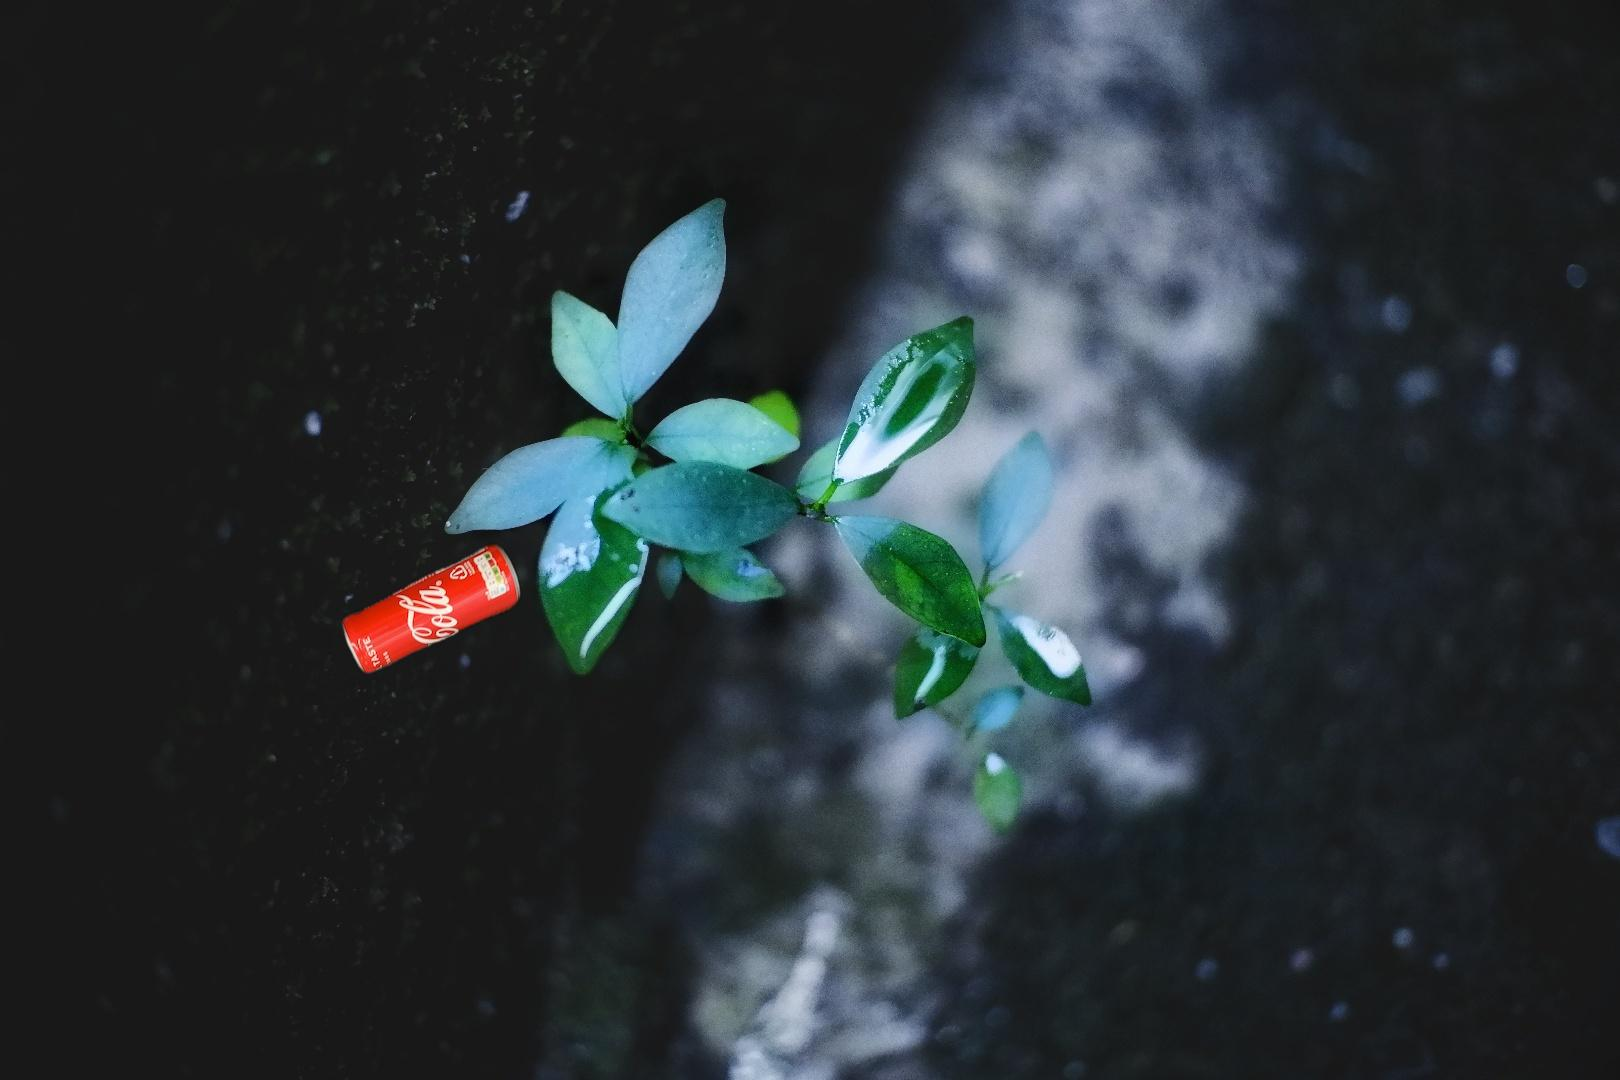metal-cans: (337, 538, 558, 1080)
